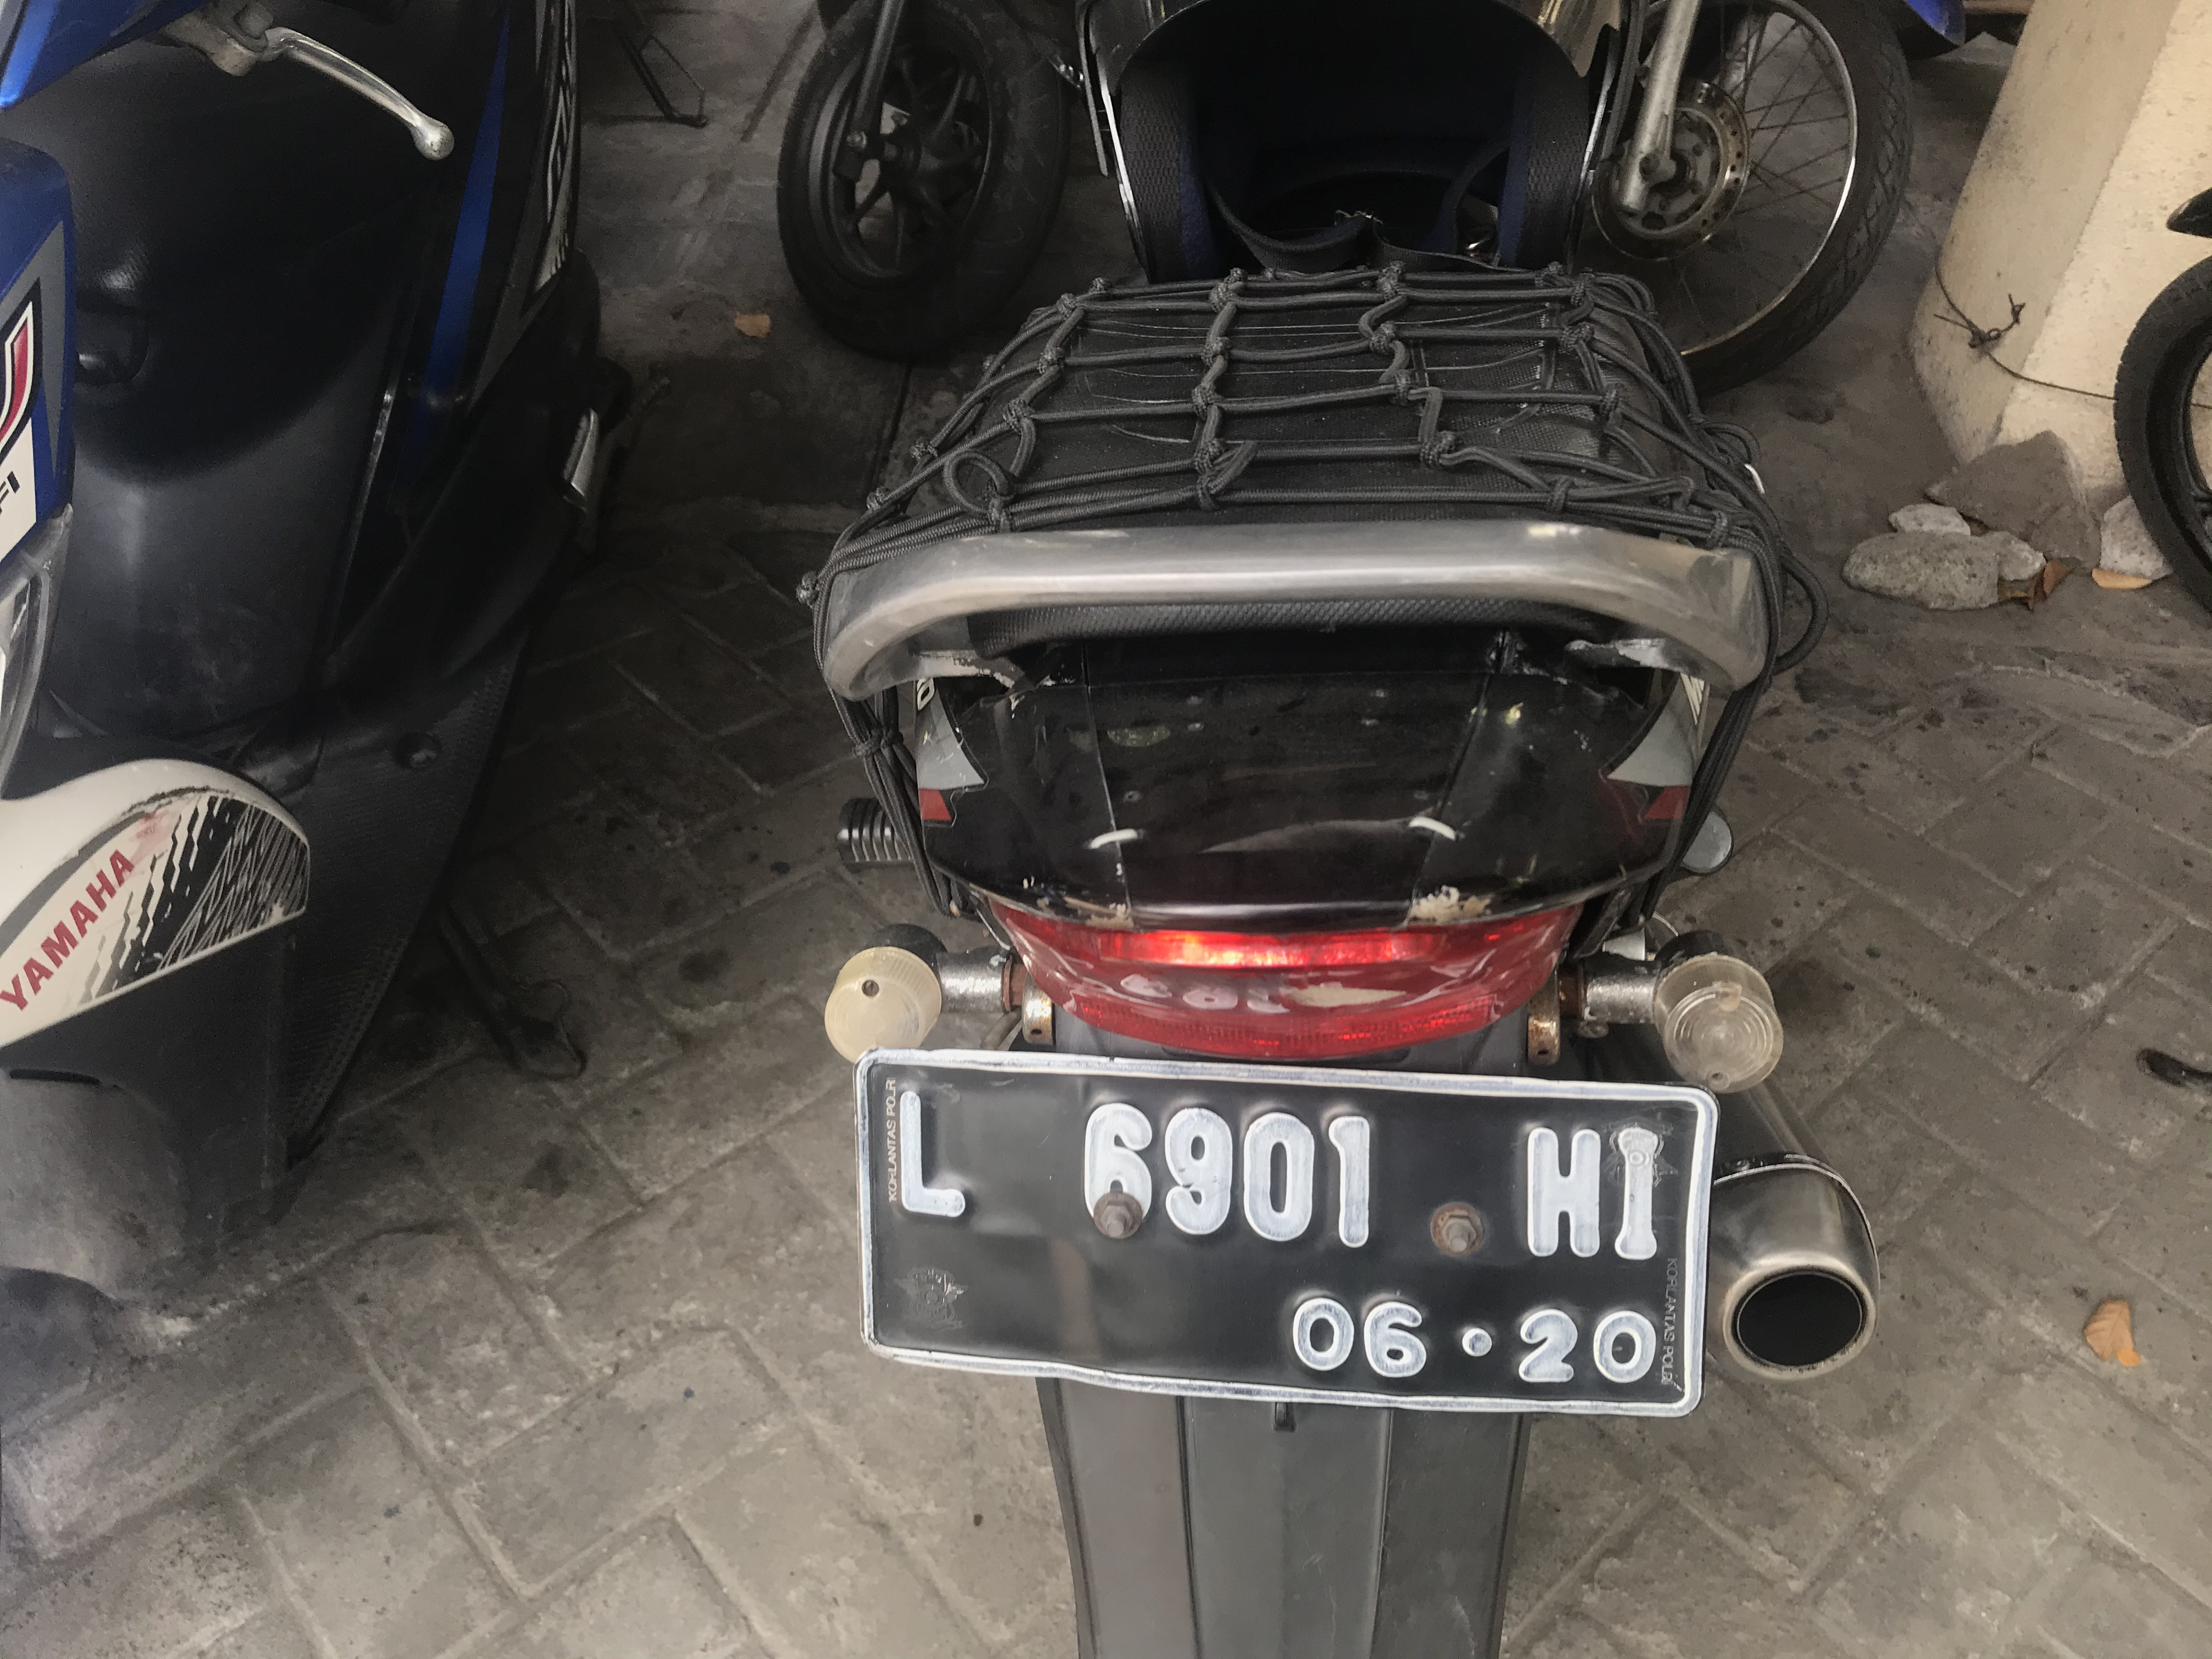plate: (851, 1052, 1703, 1407)
